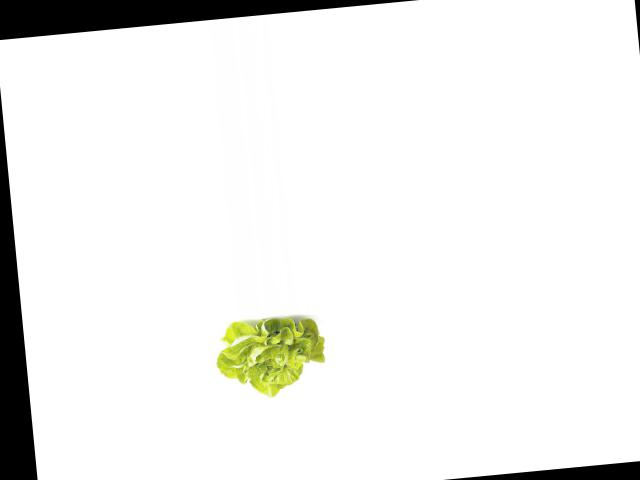lettuce: (209, 312, 331, 401)
